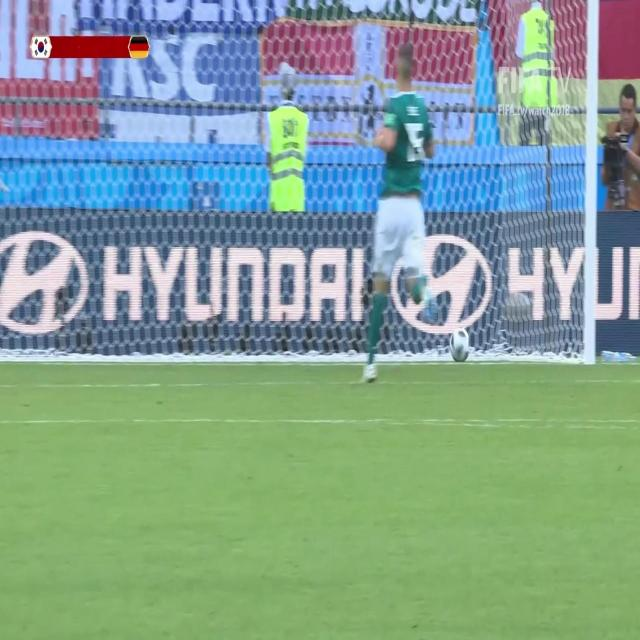ball: (448, 321, 471, 364)
player: (361, 42, 443, 386)
